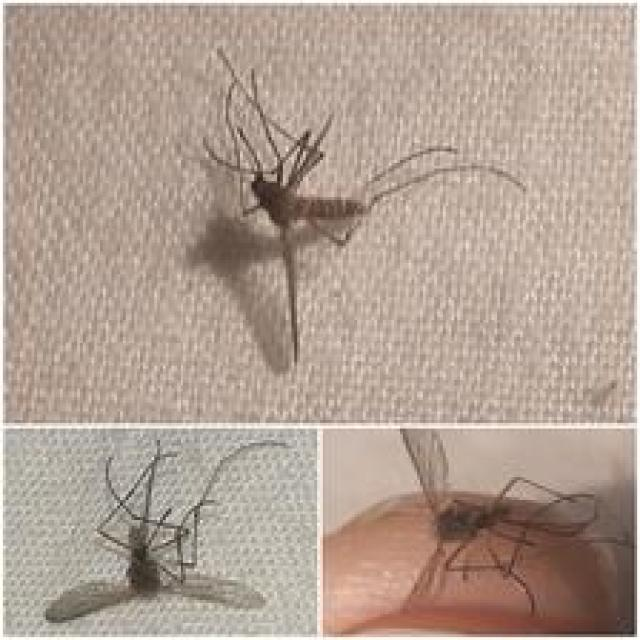Culex: (200, 46, 529, 366)
